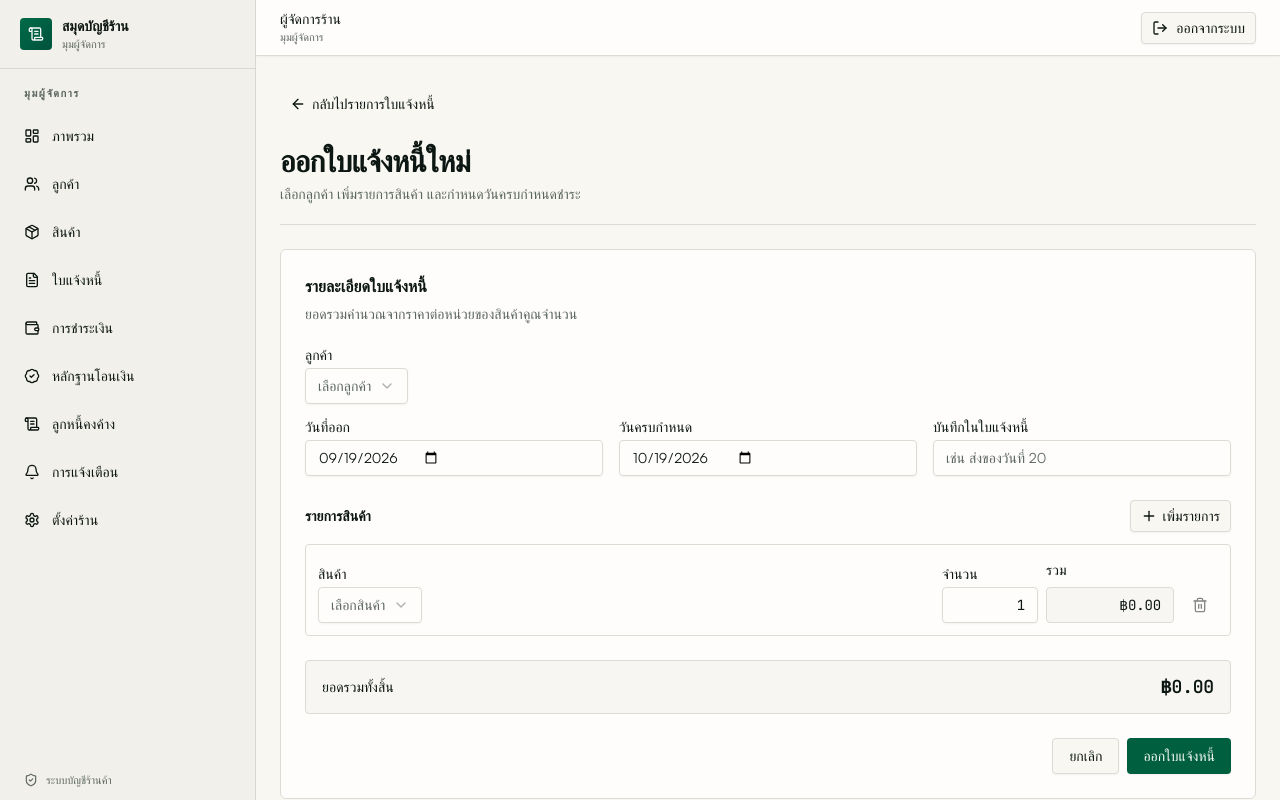
Scenario: InvoiceCreatePage › requires a customer before the invoice can be created
Click the dropdown labelled "สินค้า" at x=370, y=605, box x1=318 y1=587 x2=422 y2=623
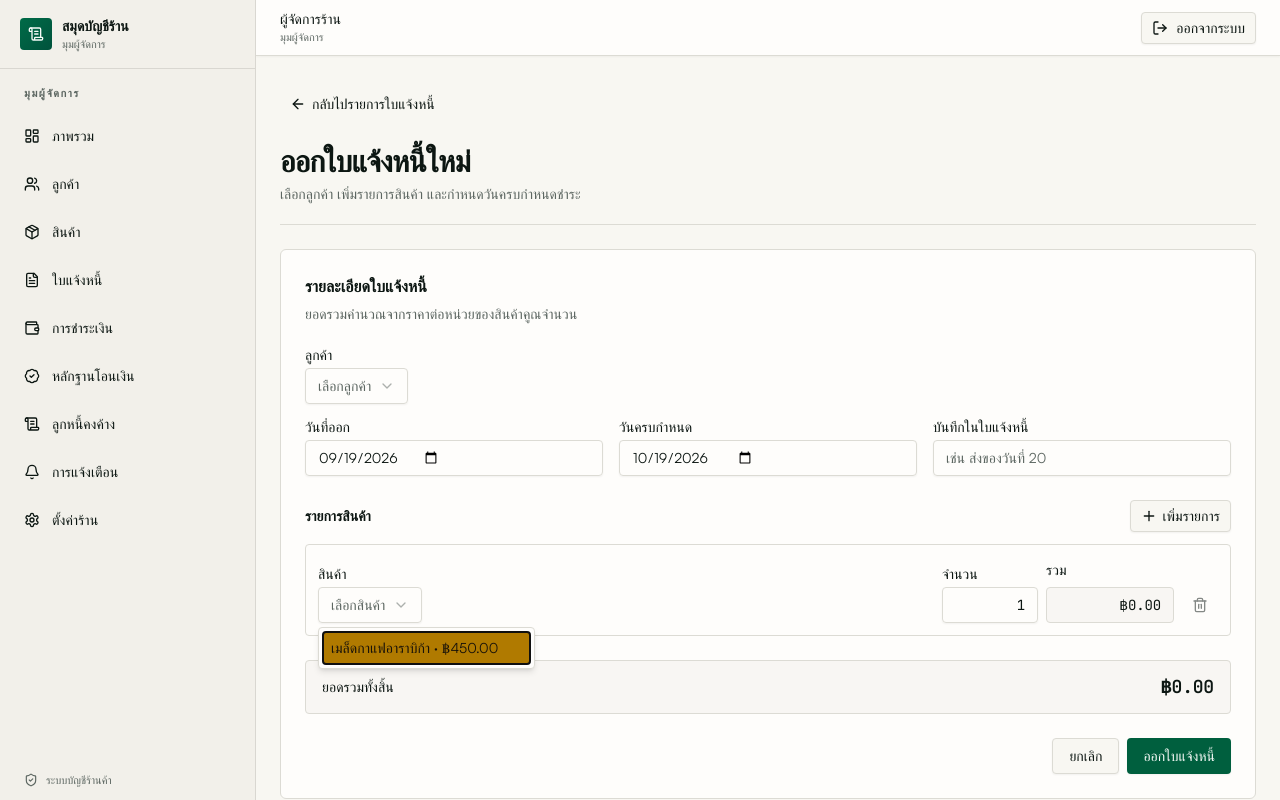
Click the option "เมล็ดกาแฟอาราบิก้า · ฿450.00" at x=427, y=648, box x1=323 y1=632 x2=530 y2=664
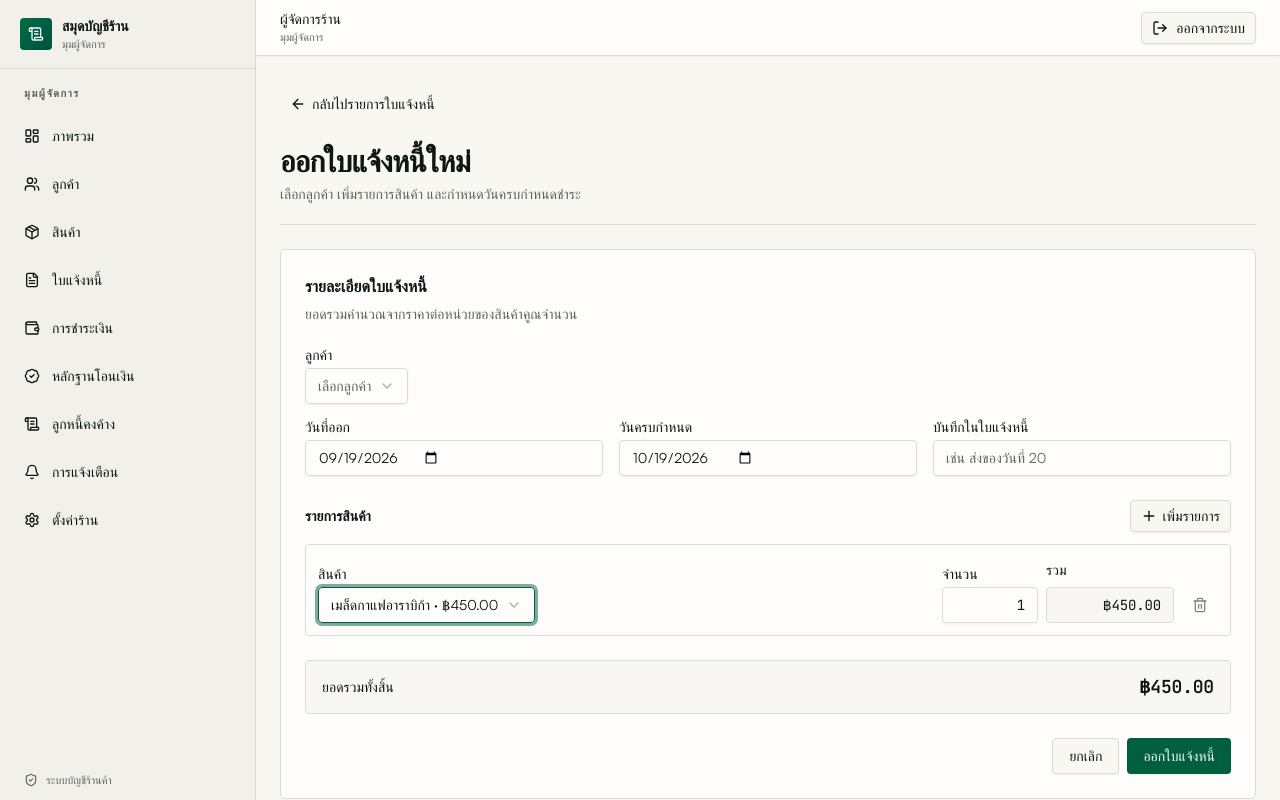
Click the button with test id "invoice.submit_button" at x=1179, y=756, box x1=1127 y1=738 x2=1231 y2=774
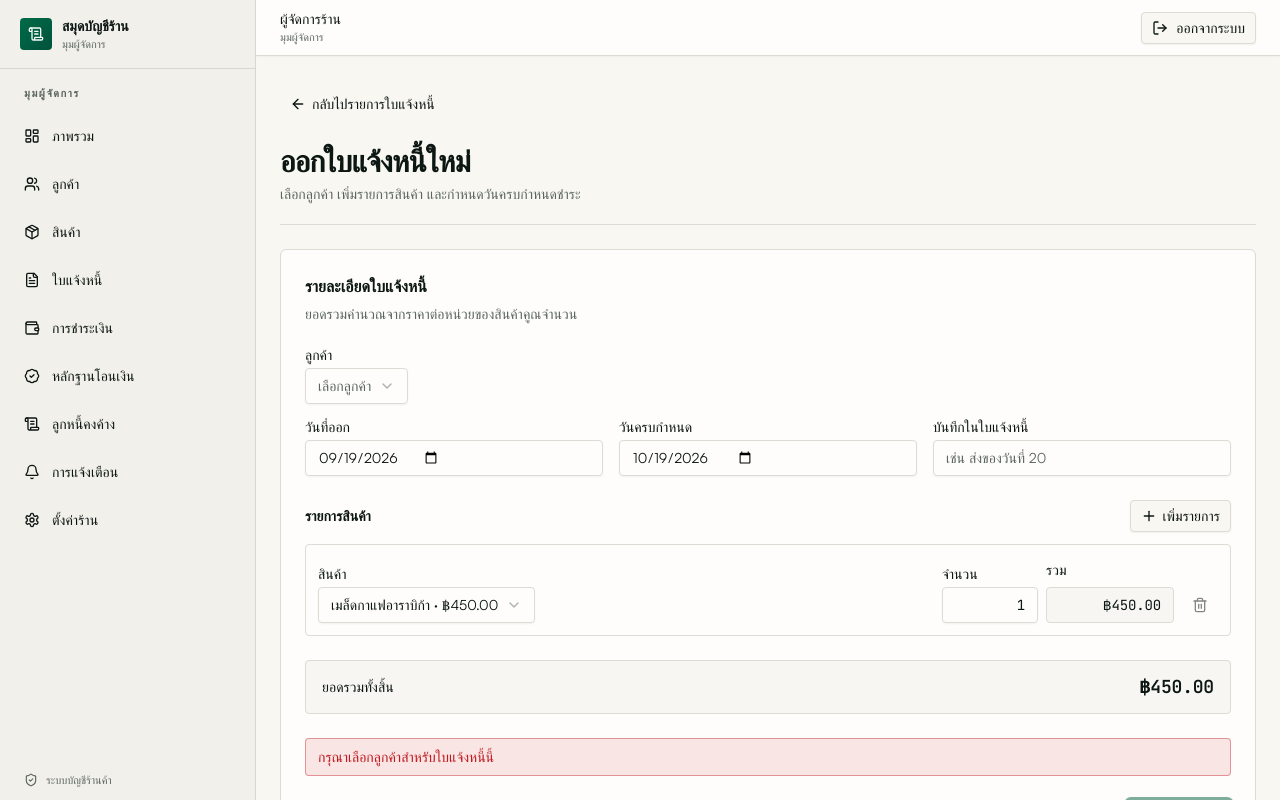
expect the text "กรุณาเลือกลูกค้าสำหรับใบแจ้งหนี้นี้" is shown: met, box x1=305 y1=738 x2=1231 y2=776
